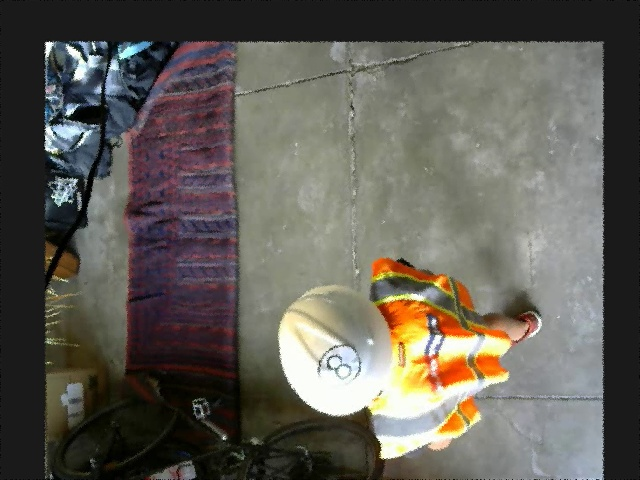eight: (315, 343, 359, 389)
